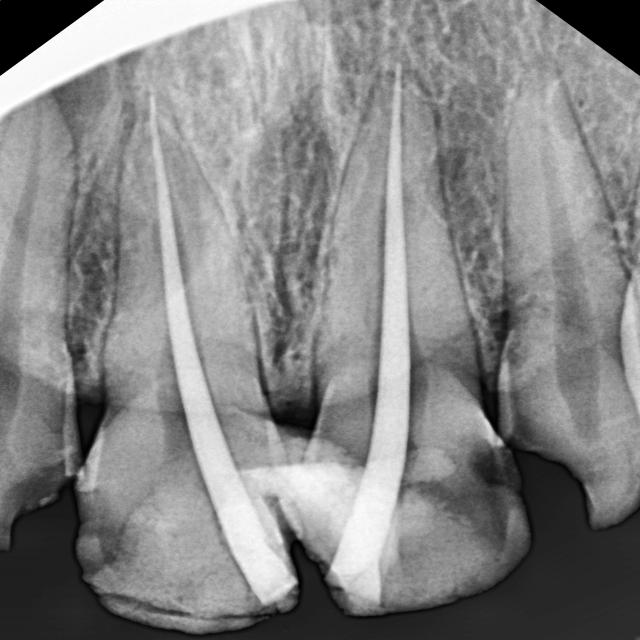Caries: (499, 380, 640, 580), (0, 442, 119, 576)
RCT: (307, 29, 547, 635), (90, 85, 304, 636)
